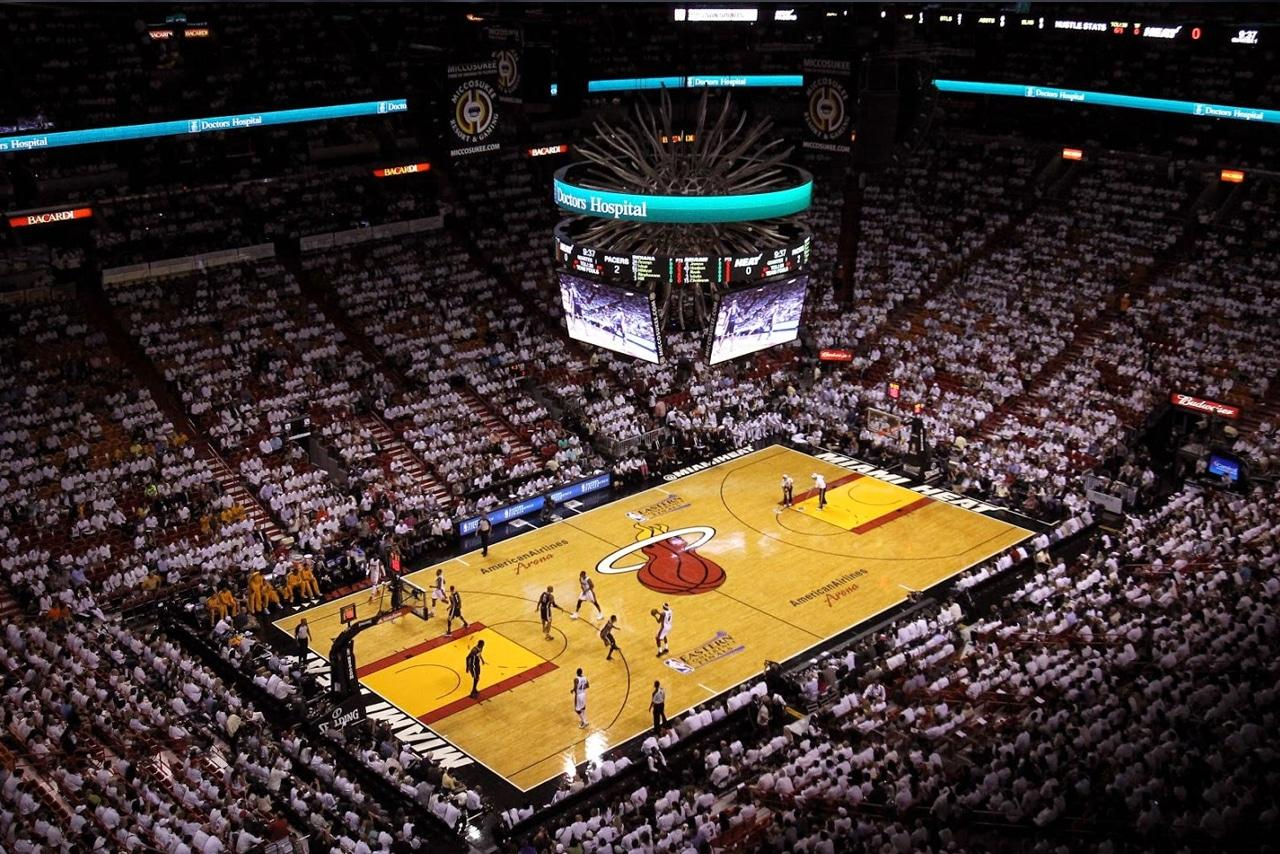basketball: (649, 609, 659, 616)
